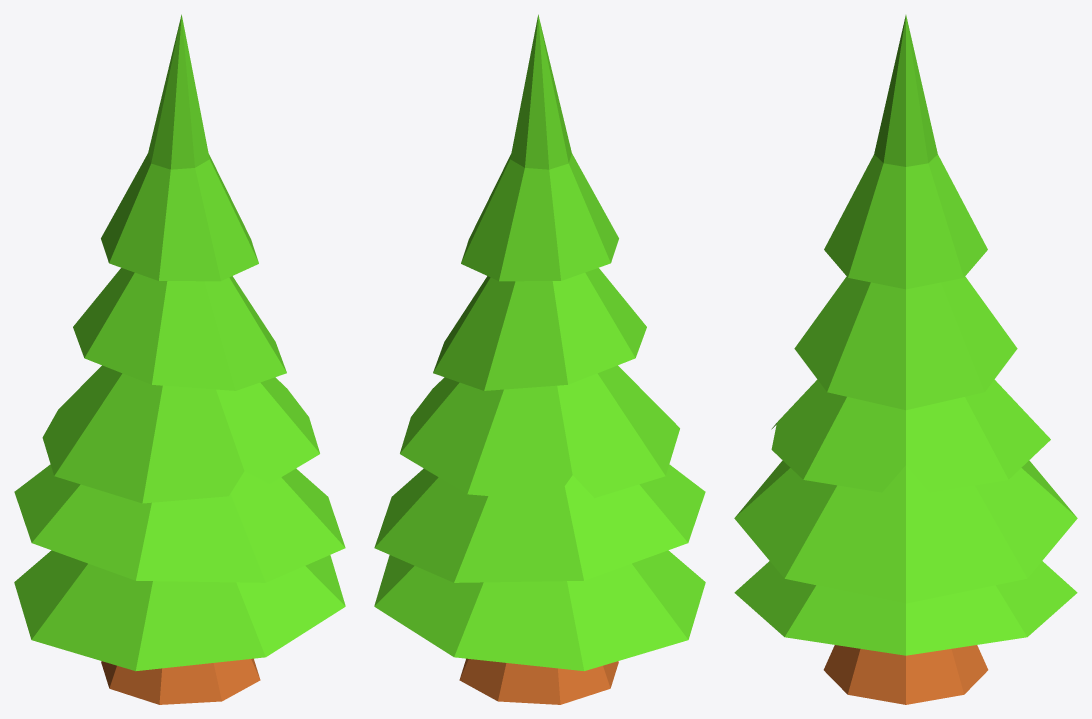
The model's file is tree.glb.
3 views of the same model, side by side, from view 1: azimuth 30°, elevation 25°; view 2: azimuth 150°, elevation 25°; view 3: azimuth 270°, elevation 25° (orthographic).
Visible parts, largest first — view 1: Cône, Cylindre; view 2: Cône, Cylindre; view 3: Cône, Cylindre.
Part boxes in pixels (x1,y1,x2,y2): Cône: [14, 14, 345, 671]; Cylindre: [101, 658, 260, 704]; Cône: [374, 14, 705, 671]; Cylindre: [459, 658, 618, 704]; Cône: [734, 15, 1077, 655]; Cylindre: [823, 645, 988, 704].
Bounding box in the file's own units: 4.03 × 8.51 × 4.03.
